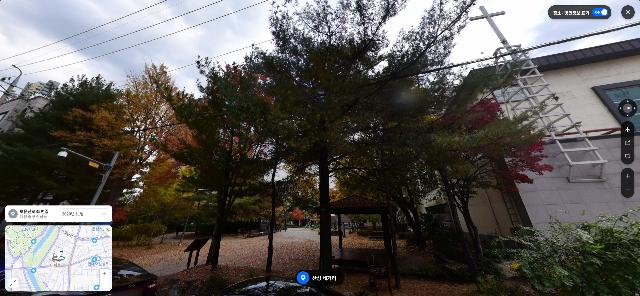other: (190, 0, 487, 280), (372, 97, 557, 285), (154, 52, 281, 269), (1, 75, 148, 211), (82, 65, 193, 238)
